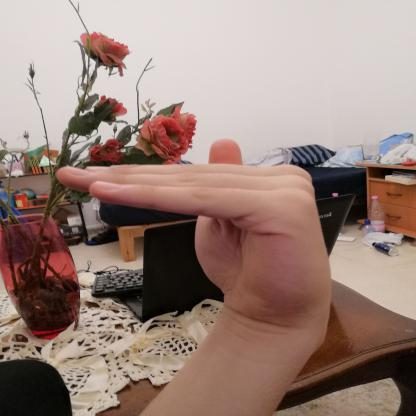KHAA: (31, 127, 356, 339)
